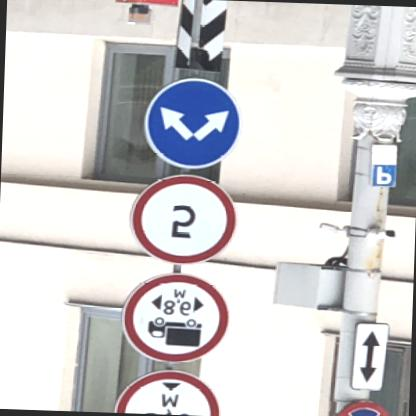speedlimit: (126, 174, 238, 268)
